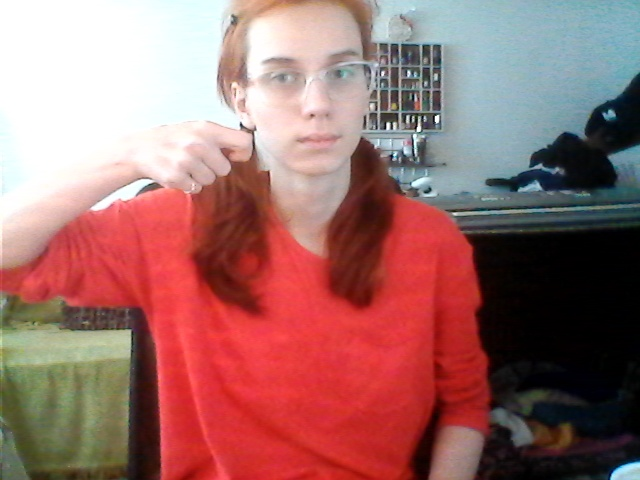jest: (133, 107, 309, 197)
